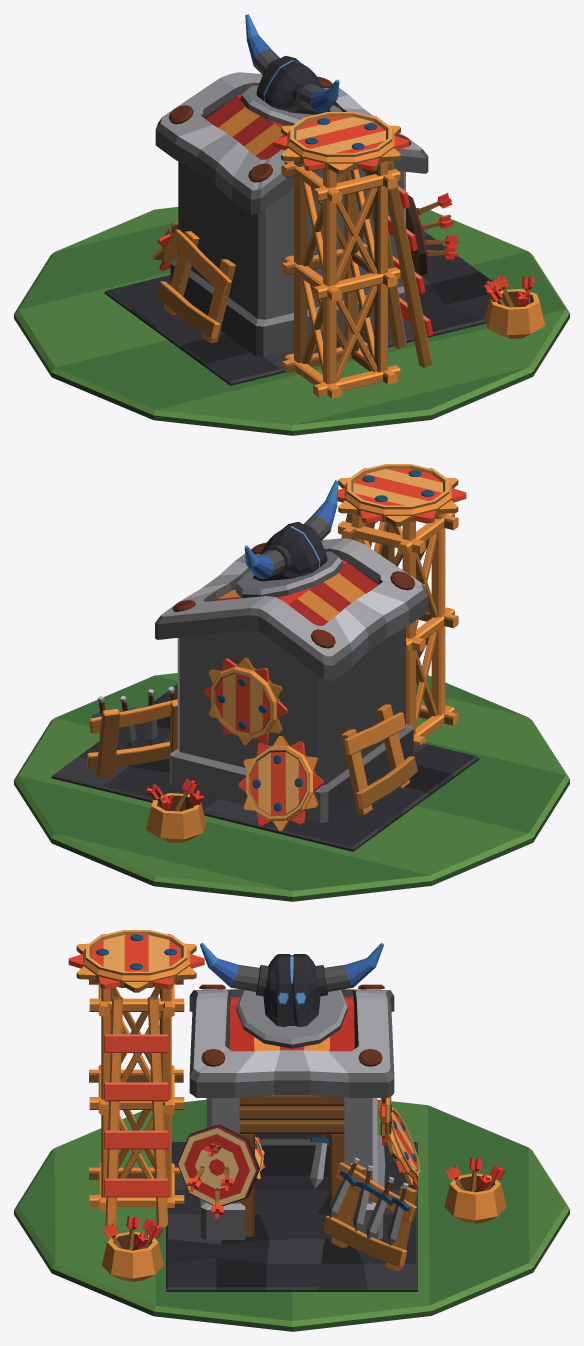
The picture shows the model from 3 angles, top to bottom: view 1: azimuth 30°, elevation 25°; view 2: azimuth 150°, elevation 25°; view 3: azimuth 270°, elevation 25°; orthographic projection.
Visible parts, largest first — view 1: Cylinder.004, Cube, Cube.001, Cube.004, Cube.011, Cylinder.003, Cube.010, Cylinder.006, Cube.009, Cube.012, Cube.013, Cube.015 (+11 smaller); view 2: Cylinder.004, Cube, Cube.001, Cube.004, Cylinder.003, Cylinder.010, Cylinder.008, Cylinder.006, Cube.011, Cube.009, Cylinder.015, Cylinder (+11 smaller); view 3: Cylinder.004, Cube.004, Cube.001, Cube, Cylinder.006, Cylinder.003, Cube.016, Cube.011, Cylinder.007, Cube.003, Cylinder, Cylinder.015 (+19 smaller).
Part boxes in pixels (box(x1,y1,x2,y2)): Cylinder.004: box(14, 207, 569, 435); Cube: box(170, 161, 407, 356); Cube.001: box(155, 72, 428, 214); Cube.004: box(104, 230, 502, 385); Cube.011: box(281, 161, 400, 398); Cylinder.003: box(273, 112, 408, 174); Cube.010: box(294, 161, 387, 372); Cylinder.006: box(245, 14, 339, 114); Cube.009: box(323, 169, 357, 384); Cube.012: box(302, 169, 377, 371); Cube.013: box(302, 180, 377, 380); Cube.015: box(388, 161, 432, 367); Cylinder.004: box(14, 673, 569, 901); Cube: box(170, 627, 413, 822); Cube.001: box(155, 538, 428, 680); Cube.004: box(51, 684, 479, 851); Cylinder.003: box(337, 464, 466, 526); Cylinder.010: box(238, 736, 323, 830); Cylinder.008: box(203, 657, 287, 745); Cylinder.006: box(244, 480, 338, 581); Cube.011: box(338, 513, 458, 745); Cube.009: box(351, 513, 445, 715); Cylinder.015: box(146, 793, 206, 842); Cylinder: box(235, 551, 343, 598); Cylinder.004: box(14, 1099, 569, 1331); Cube.004: box(166, 1142, 417, 1291); Cube.001: box(189, 989, 394, 1097); Cube: box(199, 1097, 385, 1239); Cylinder.006: box(200, 943, 383, 1026); Cylinder.003: box(68, 930, 204, 992); Cube.016: box(104, 1034, 168, 1197); Cube.011: box(89, 979, 184, 1211); Cylinder.007: box(177, 1124, 259, 1205); Cube.003: box(239, 1095, 344, 1133); Cylinder: box(236, 990, 347, 1048); Cylinder.015: box(444, 1173, 506, 1223).
Bounding box in the file's own units: 6.51 × 3.51 × 6.51.
Materials: 1 (1 with a texture image).
